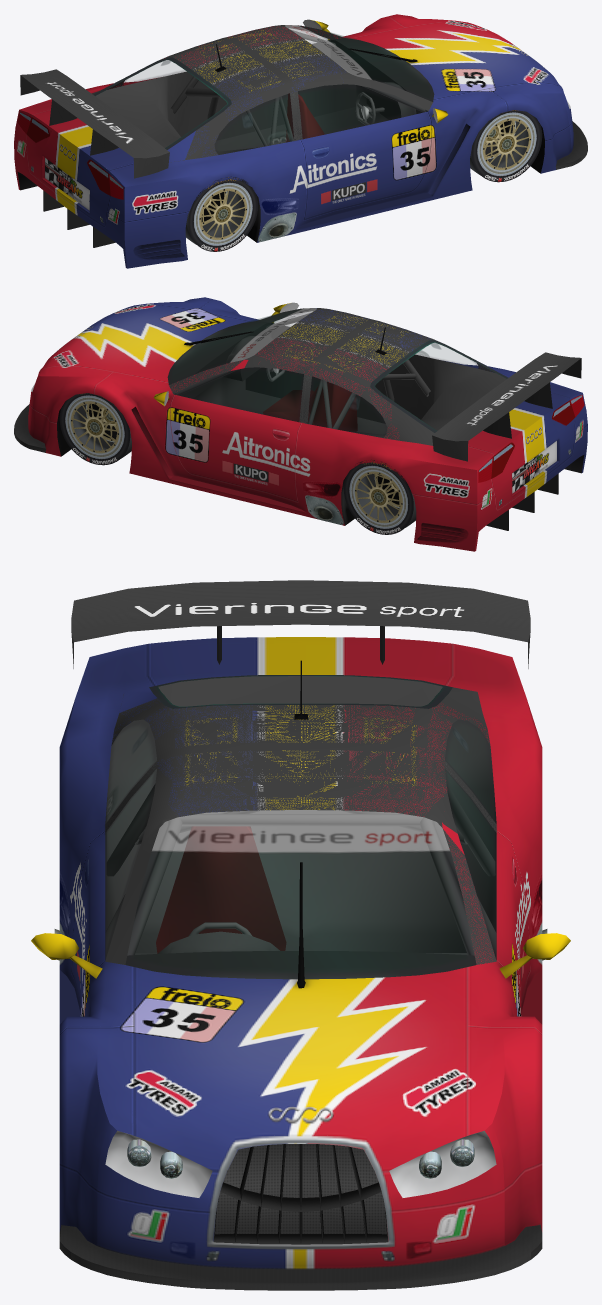
Rendered from sd-trb1-vieringe-5rb.glb.
3 renders of one model, top to bottom at view 1: azimuth 30°, elevation 25°; view 2: azimuth 150°, elevation 25°; view 3: azimuth 270°, elevation 25°, orthographic. The views are drawn at different scales.
Parts seen in each view (by area): view 1: paint_2, detail_0, gt_cabin_COCKPITINSIDESIDEANDREAR_s_0_4, glass_1, Rim_RearRight, Rim_FrontRight, gt_cabin_COCKPITINSIDEFLOOR_s_0_6, gt_cabin_COCKPITINSIDEFRONTTOP_s_0_5, gt_cabin_COCKPITFRONPANEL_s_0_7, Tire_RearRight, gt_cabin_SEATLEFT_s_2_3, Tire_FrontRight; view 2: paint_2, detail_0, gt_cabin_COCKPITINSIDESIDEANDREAR_s_0_4, glass_1, Rim_FrontLeft, Rim_RearLeft, gt_cabin_SEATLEFT_s_2_3, gt_cabin_COCKPITINSIDEFLOOR_s_0_6, gt_cabin_COCKPITINSIDEFRONTTOP_s_0_5, Tire_RearLeft, gt_cabin_COCKPITFRONPANEL_s_0_7, Tire_FrontLeft; view 3: paint_2, detail_0, gt_cabin_COCKPITINSIDESIDEANDREAR_s_0_4, glass_1, gt_cabin_SEATLEFT_s_2_3, gt_cabin_COCKPITINSIDEFRONTTOP_s_0_5.
Boxes of the visible parts, x1,y1,x2,y2 form: paint_2: (14,14,587,268); detail_0: (17,19,587,247); gt_cabin_COCKPITINSIDESIDEANDREAR_s_0_4: (95,39,356,154); glass_1: (123,25,433,154); Rim_RearRight: (188,176,257,251); Rim_FrontRight: (471,110,542,182); gt_cabin_COCKPITINSIDEFLOOR_s_0_6: (214,85,388,151); gt_cabin_COCKPITINSIDEFRONTTOP_s_0_5: (332,38,434,101); gt_cabin_COCKPITFRONPANEL_s_0_7: (330,39,427,113); Tire_RearRight: (185,191,244,244); gt_cabin_SEATLEFT_s_2_3: (285,93,324,142); Tire_FrontRight: (470,121,528,175); paint_2: (14,297,587,551); detail_0: (14,302,584,530); gt_cabin_COCKPITINSIDESIDEANDREAR_s_0_4: (245,322,506,437); glass_1: (168,308,478,437); Rim_FrontLeft: (59,393,130,465); Rim_RearLeft: (344,460,413,534); gt_cabin_SEATLEFT_s_2_3: (263,381,357,431); gt_cabin_COCKPITINSIDEFLOOR_s_0_6: (193,377,387,434); gt_cabin_COCKPITINSIDEFRONTTOP_s_0_5: (167,321,269,384); Tire_RearLeft: (357,474,416,527); gt_cabin_COCKPITFRONPANEL_s_0_7: (174,322,271,398); Tire_FrontLeft: (73,404,131,458); paint_2: (59,626,542,1290); detail_0: (31,580,570,1282); gt_cabin_COCKPITINSIDESIDEANDREAR_s_0_4: (105,676,496,960); glass_1: (105,720,496,978); gt_cabin_SEATLEFT_s_2_3: (156,826,286,953); gt_cabin_COCKPITINSIDEFRONTTOP_s_0_5: (125,951,476,979).
Size of the model in its own units: 4.55 by 1.33 by 2.17.
Materials: 6 (5 with a texture image).
